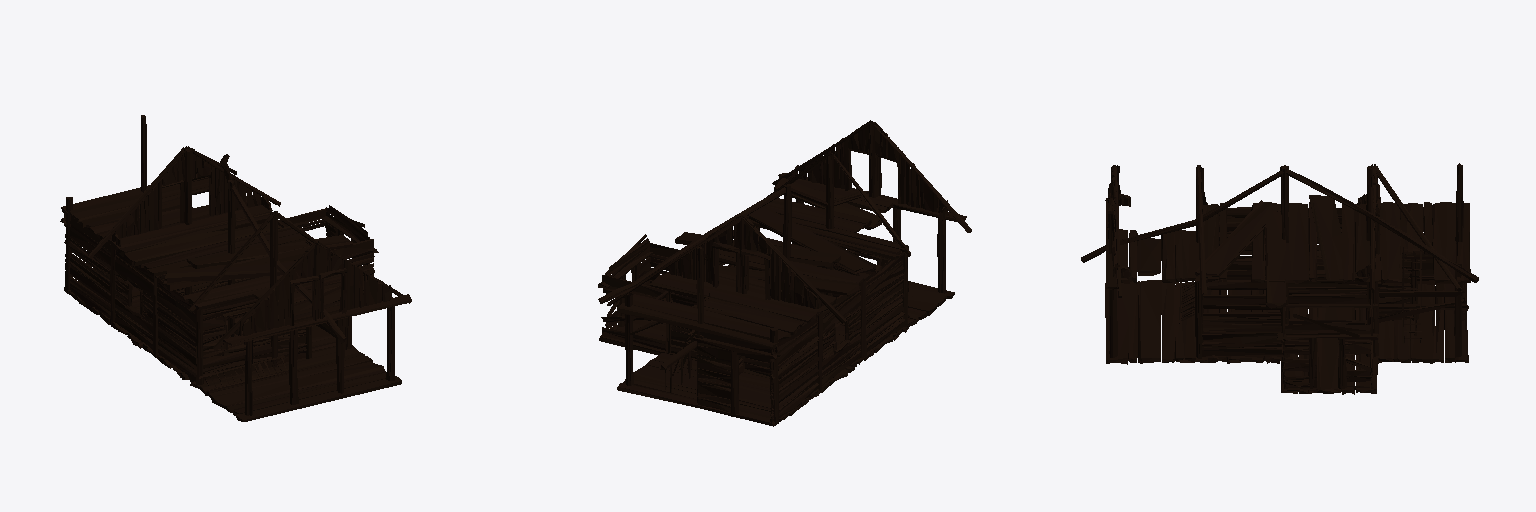
The model's file is -LOD1_p_hut_003.obj.
3 renders of one model, left to right at view 1: azimuth 30°, elevation 25°; view 2: azimuth 150°, elevation 25°; view 3: azimuth 270°, elevation 25°, orthographic.
Visible parts, largest first — view 1: Cylinder.000_Cylinder.001; view 2: Cylinder.000_Cylinder.001; view 3: Cylinder.000_Cylinder.001.
Boxes of the visible parts, <box> form: Cylinder.000_Cylinder.001: <box>60,115,411,421</box>; Cylinder.000_Cylinder.001: <box>598,120,971,426</box>; Cylinder.000_Cylinder.001: <box>1081,163,1478,394</box>.
Bounding box in the file's own units: 13.38 × 8.34 × 18.7.